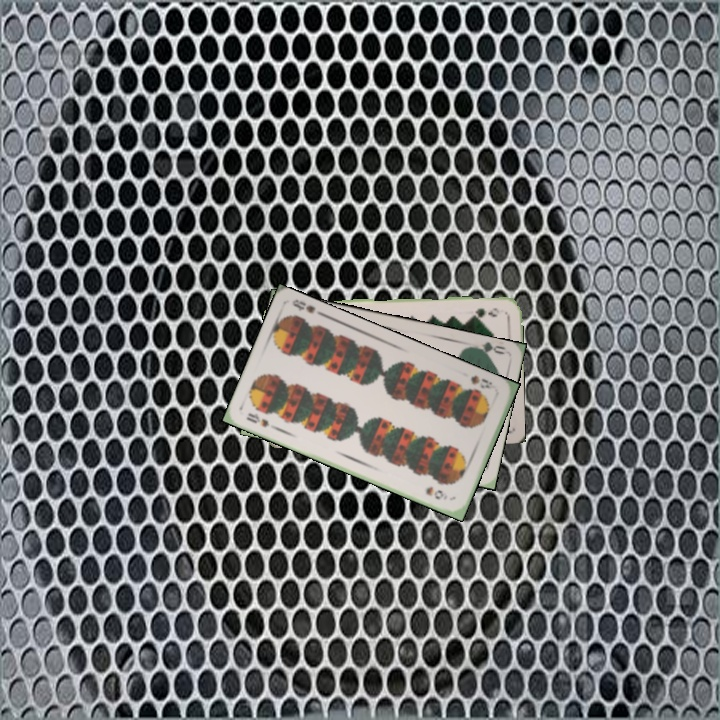G9: (468, 304, 501, 319)
GO: (467, 339, 507, 360)
S8: (242, 409, 279, 432), (467, 371, 497, 392)
